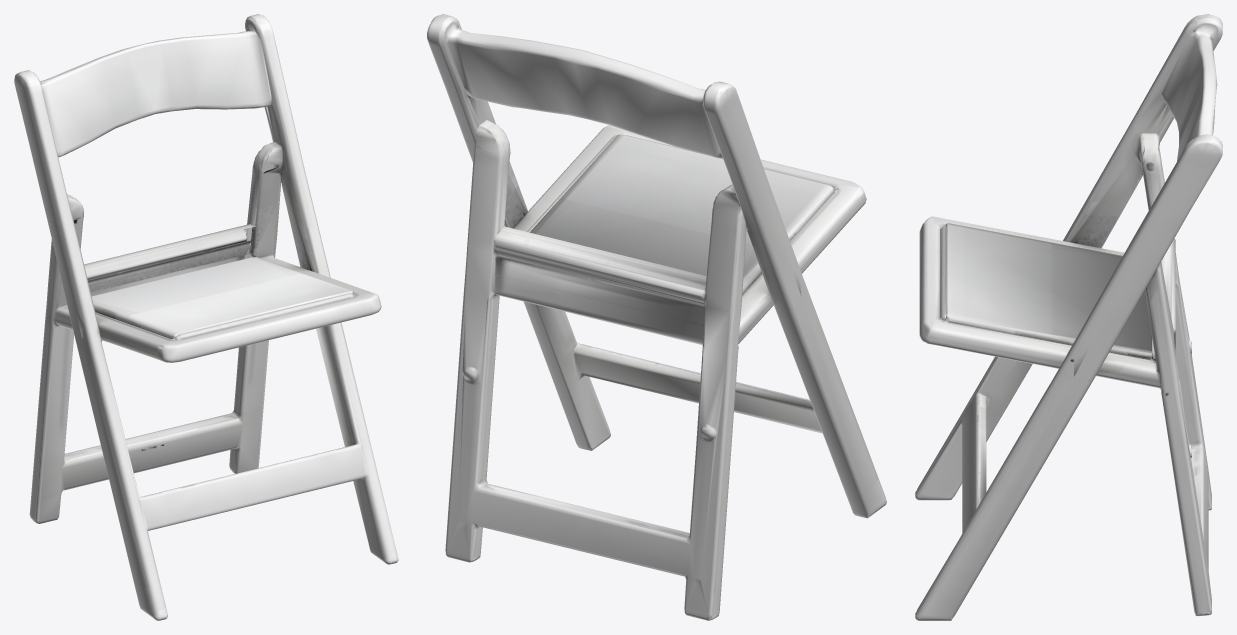
File: white_resin_padded_chair0119031822_texture.glb
3 views of the same model, side by side, from view 1: azimuth 30°, elevation 25°; view 2: azimuth 150°, elevation 25°; view 3: azimuth 270°, elevation 25° (orthographic). The views are drawn at different scales.
Parts seen in each view (by area): view 1: Mesh_0; view 2: Mesh_0; view 3: Mesh_0.
Part boxes in pixels (x1,y1,x2,y2): Mesh_0: [14, 14, 398, 620]; Mesh_0: [427, 14, 886, 620]; Mesh_0: [915, 14, 1222, 620].
Size of the model in its own units: 0.4479 by 0.7874 by 0.4543.
1 material, 1 textured.
